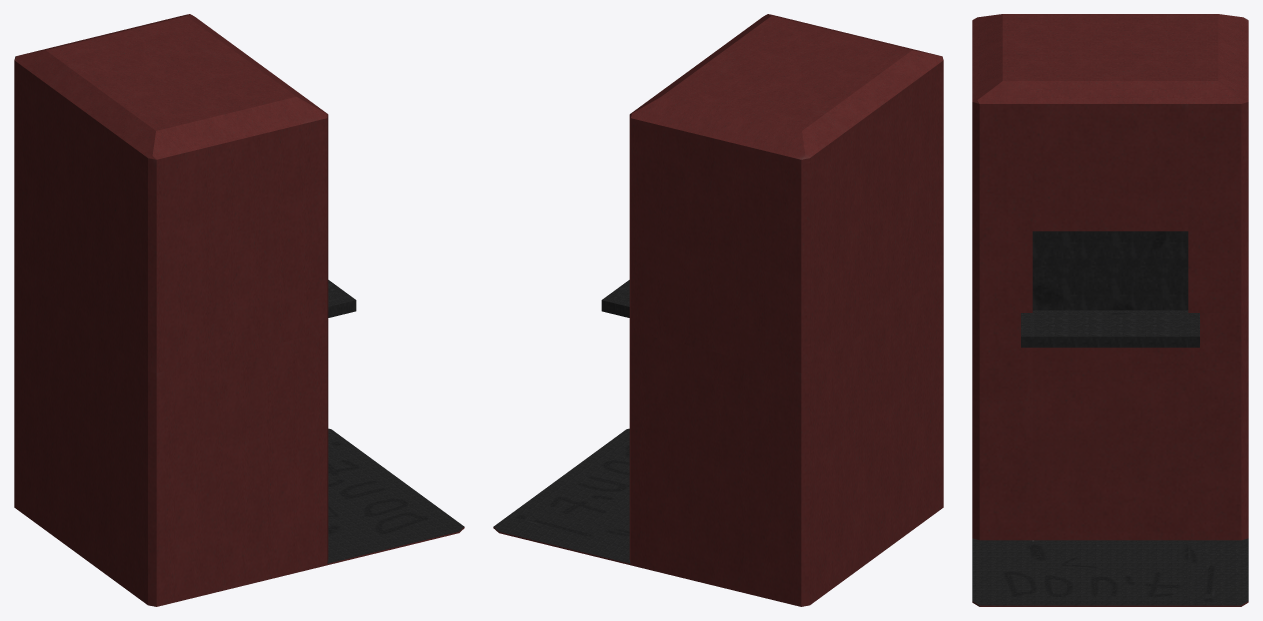
The model's file is repair cabinet.fbx.
3 renders of one model, left to right at view 1: azimuth 30°, elevation 25°; view 2: azimuth 150°, elevation 25°; view 3: azimuth 270°, elevation 25°, orthographic. The views are drawn at different scales.
Parts seen in each view (by area): view 1: Cube; view 2: Cube; view 3: Cube.
Boxes of the visible parts, x1,y1,x2,y2 form: Cube: (14, 14, 464, 606); Cube: (493, 14, 943, 606); Cube: (972, 14, 1248, 606).
Size of the model in its own units: 313 by 435 by 242.
Materials: 1 (1 with a texture image).
